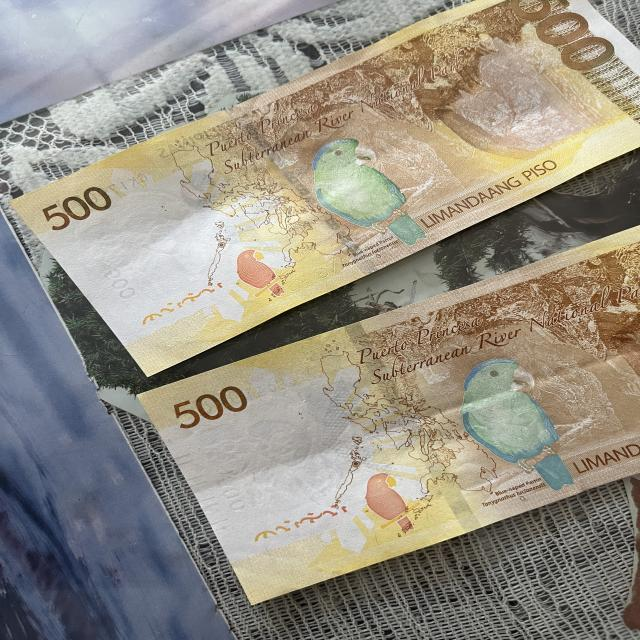500_big_parrot: (462, 360, 576, 490), (304, 138, 430, 243)
500_parrot_watermark: (359, 473, 421, 532), (232, 250, 296, 298)
value_watermark: (208, 475, 248, 512), (103, 263, 139, 300)
watermark: (200, 400, 357, 529), (93, 187, 235, 308)
